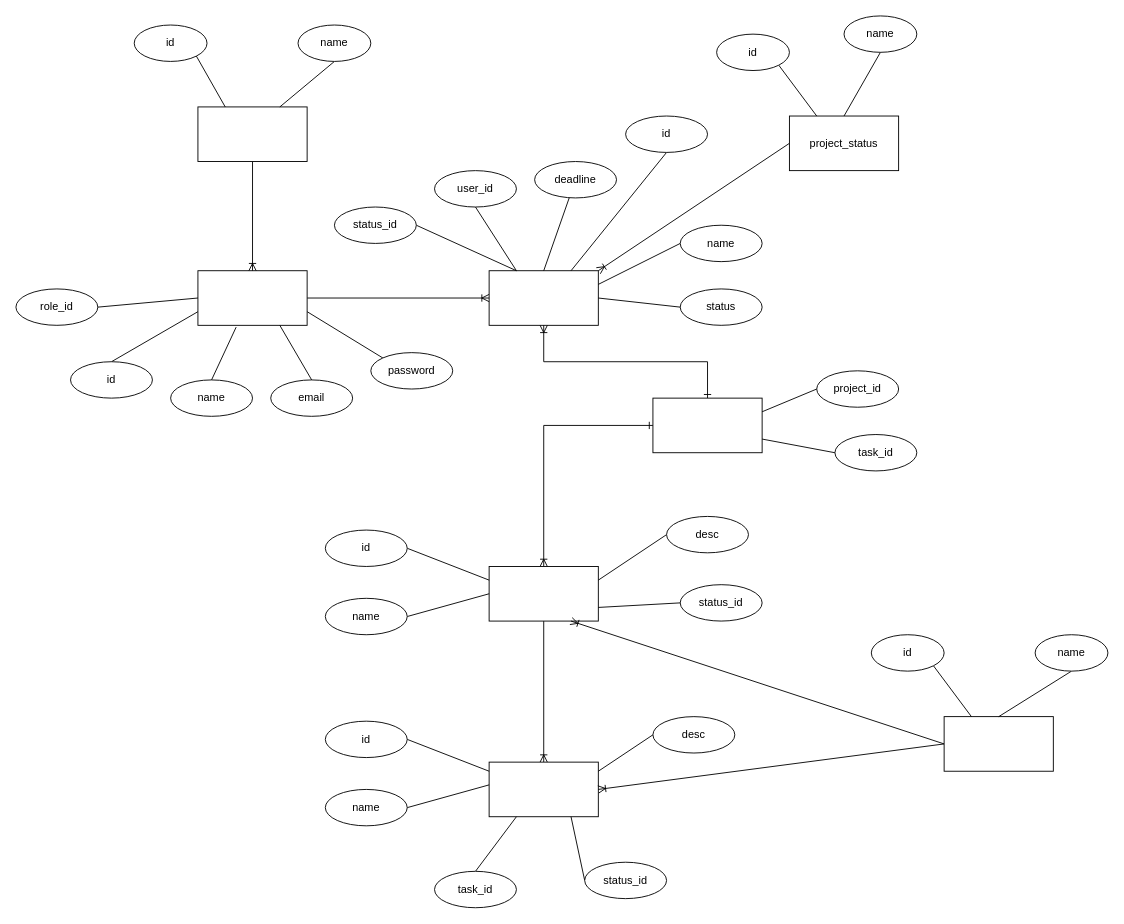
Image size: 1124x924. Some labels were removed from this diagram. The shapes that lost their labels are listed below. From the top down, each one's centre as x and y in pixels, then its label:
At (252,134): "role".
At (252,297): "user".
At (543,297): "project".
At (707,425): "task_to_project".
At (543,593): "task".
At (998,743): "task_status".
At (543,789): "subtasks".
